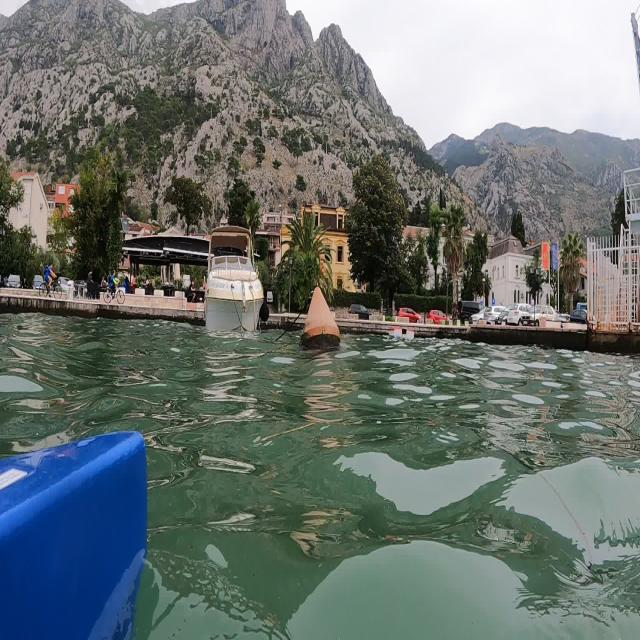boat: (198, 209, 273, 342)
buoy: (298, 274, 349, 360)
